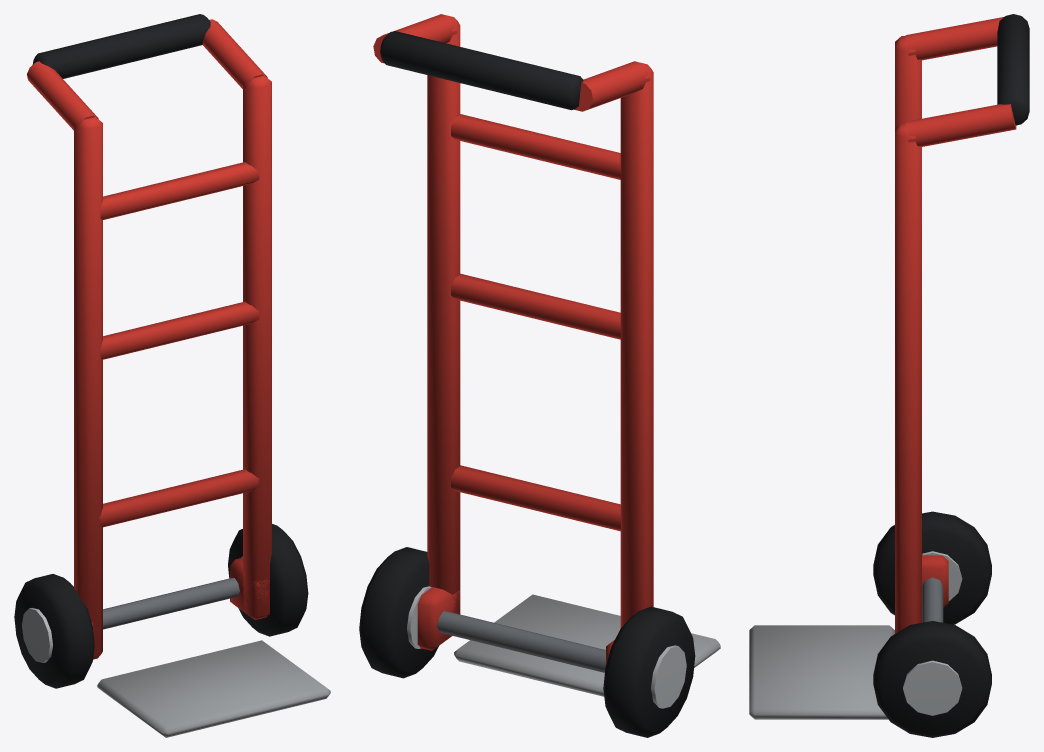
The model's file is SM_HandTruck_01.glb.
3 views of the same model, side by side, from view 1: azimuth 30°, elevation 25°; view 2: azimuth 150°, elevation 25°; view 3: azimuth 270°, elevation 25° (orthographic). The views are drawn at different scales.
Parts seen in each view (by area): view 1: SM_HandTruck_01; view 2: SM_HandTruck_01; view 3: SM_HandTruck_01.
Part boxes in pixels (bbox=[...]): SM_HandTruck_01: bbox=[14, 14, 330, 737]; SM_HandTruck_01: bbox=[359, 14, 720, 737]; SM_HandTruck_01: bbox=[749, 14, 1029, 737].
Size of the model in its own units: 0.564 by 1.27 by 0.52.
1 material, 1 textured.
